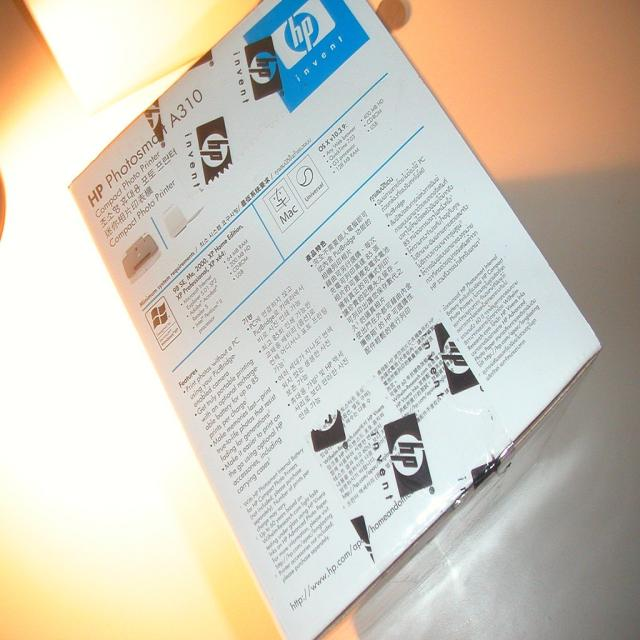HP: (383, 410, 438, 501), (268, 2, 338, 72), (435, 323, 483, 397), (195, 115, 236, 189), (244, 34, 286, 104)
